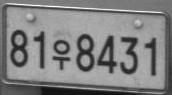1: (142, 36, 162, 76), (31, 30, 52, 68)
3: (119, 36, 139, 75)
4: (96, 34, 117, 74)
8: (75, 32, 95, 72), (9, 28, 28, 67)
우: (53, 38, 71, 69)
